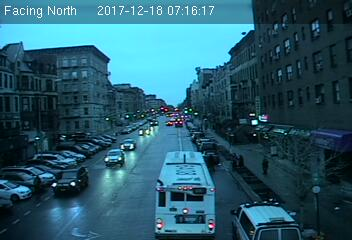bus: (155, 150, 219, 239)
car: (52, 165, 89, 194), (104, 150, 123, 164), (120, 139, 136, 149)
pedestrian: (261, 156, 270, 176)
police: (229, 197, 301, 240)
